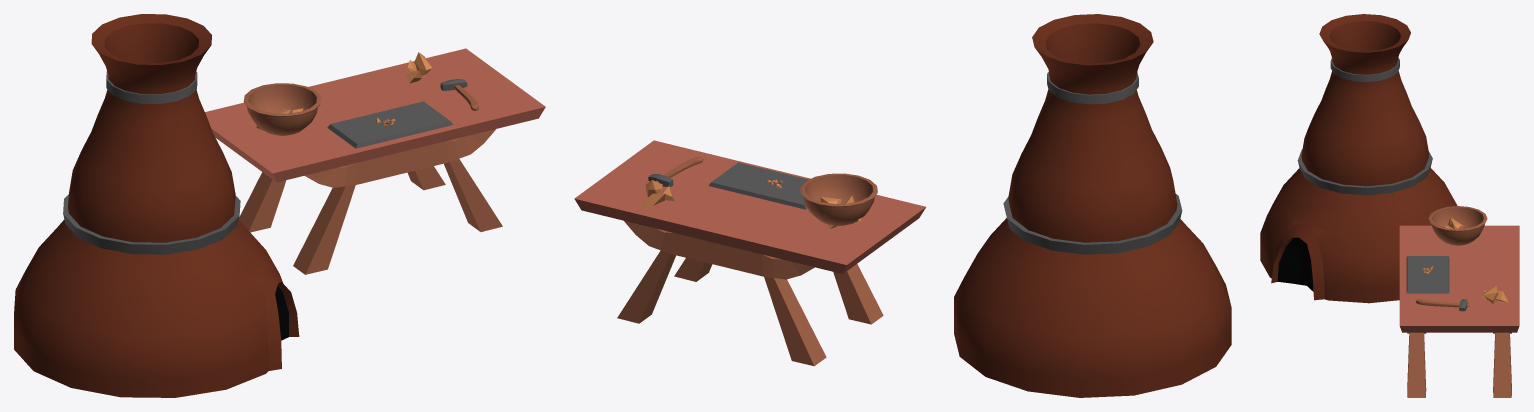
Rendered from MetalBench.fbx.
3 renders of one model, left to right at view 1: azimuth 30°, elevation 25°; view 2: azimuth 150°, elevation 25°; view 3: azimuth 270°, elevation 25°, orthographic. The views are drawn at different scales.
Visible parts, largest first — view 1: WorkBenchwFurnace; view 2: WorkBenchwFurnace; view 3: WorkBenchwFurnace.
Boxes of the visible parts, x1=… form: WorkBenchwFurnace: x1=14, y1=14, x2=545, y2=397; WorkBenchwFurnace: x1=574, y1=14, x2=1231, y2=397; WorkBenchwFurnace: x1=1260, y1=14, x2=1519, y2=397.
Size of the model in its own units: 1672 by 892 by 929.
